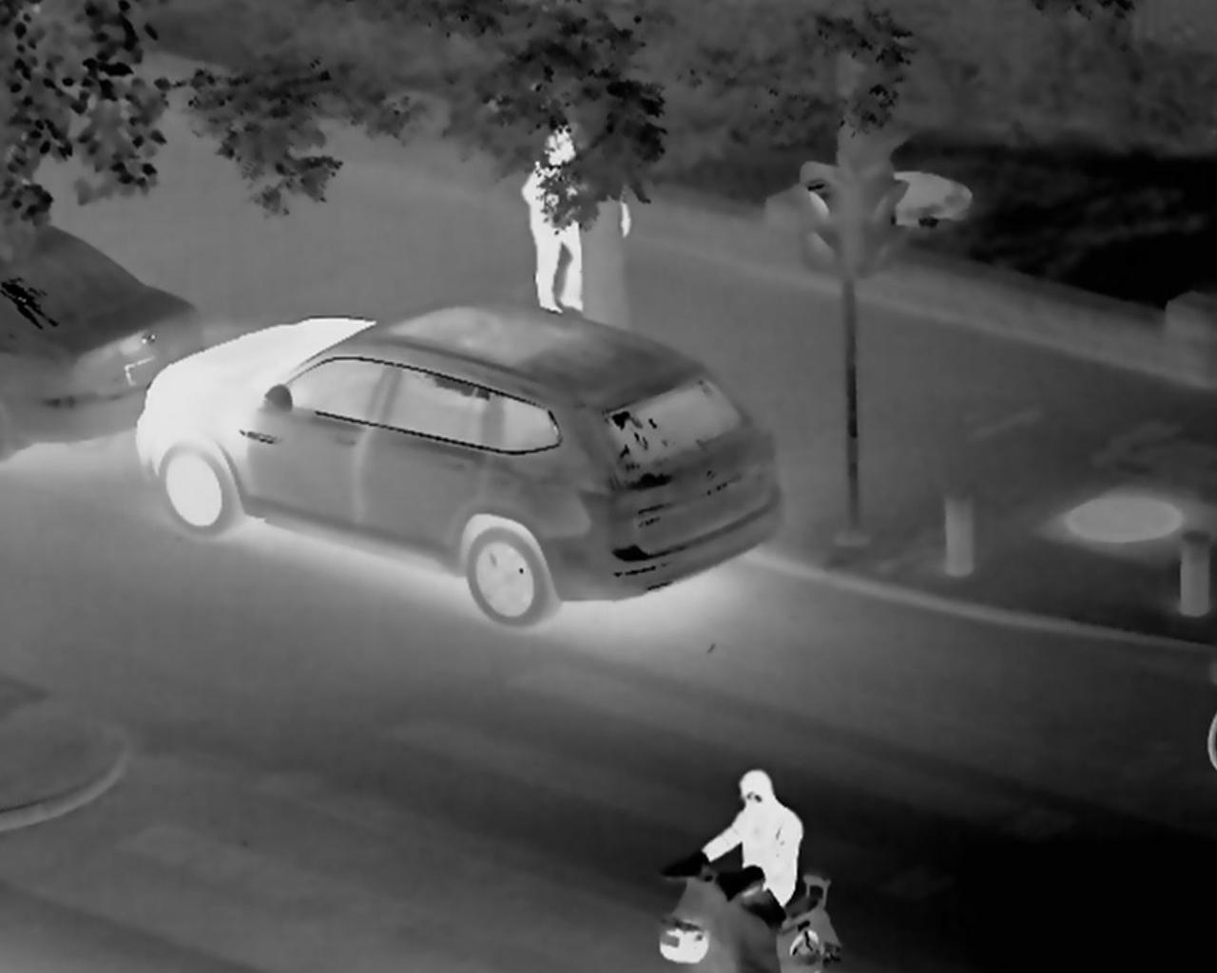person: (711, 765, 810, 927), (524, 139, 592, 327)
